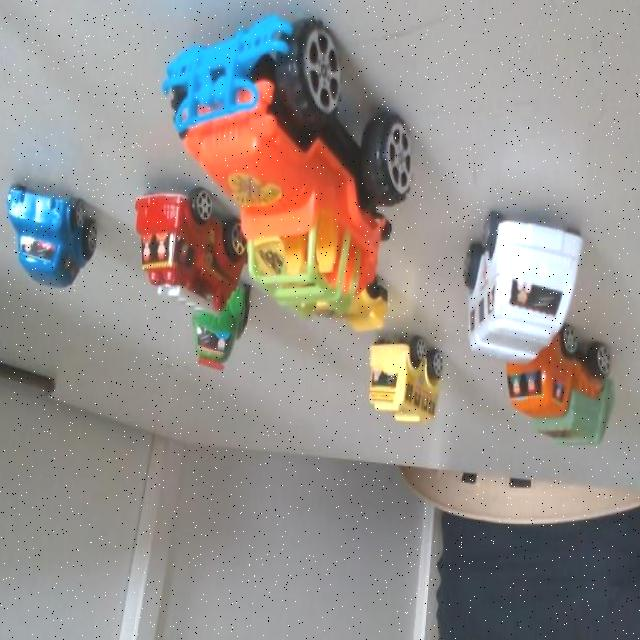car: (154, 18, 298, 198), (237, 204, 365, 329), (0, 166, 97, 300), (458, 232, 566, 346), (126, 174, 215, 308), (493, 331, 592, 448), (176, 279, 240, 366), (360, 343, 418, 425)
